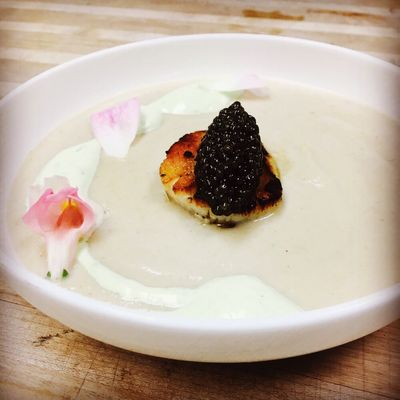sushi: (158, 101, 284, 226)
